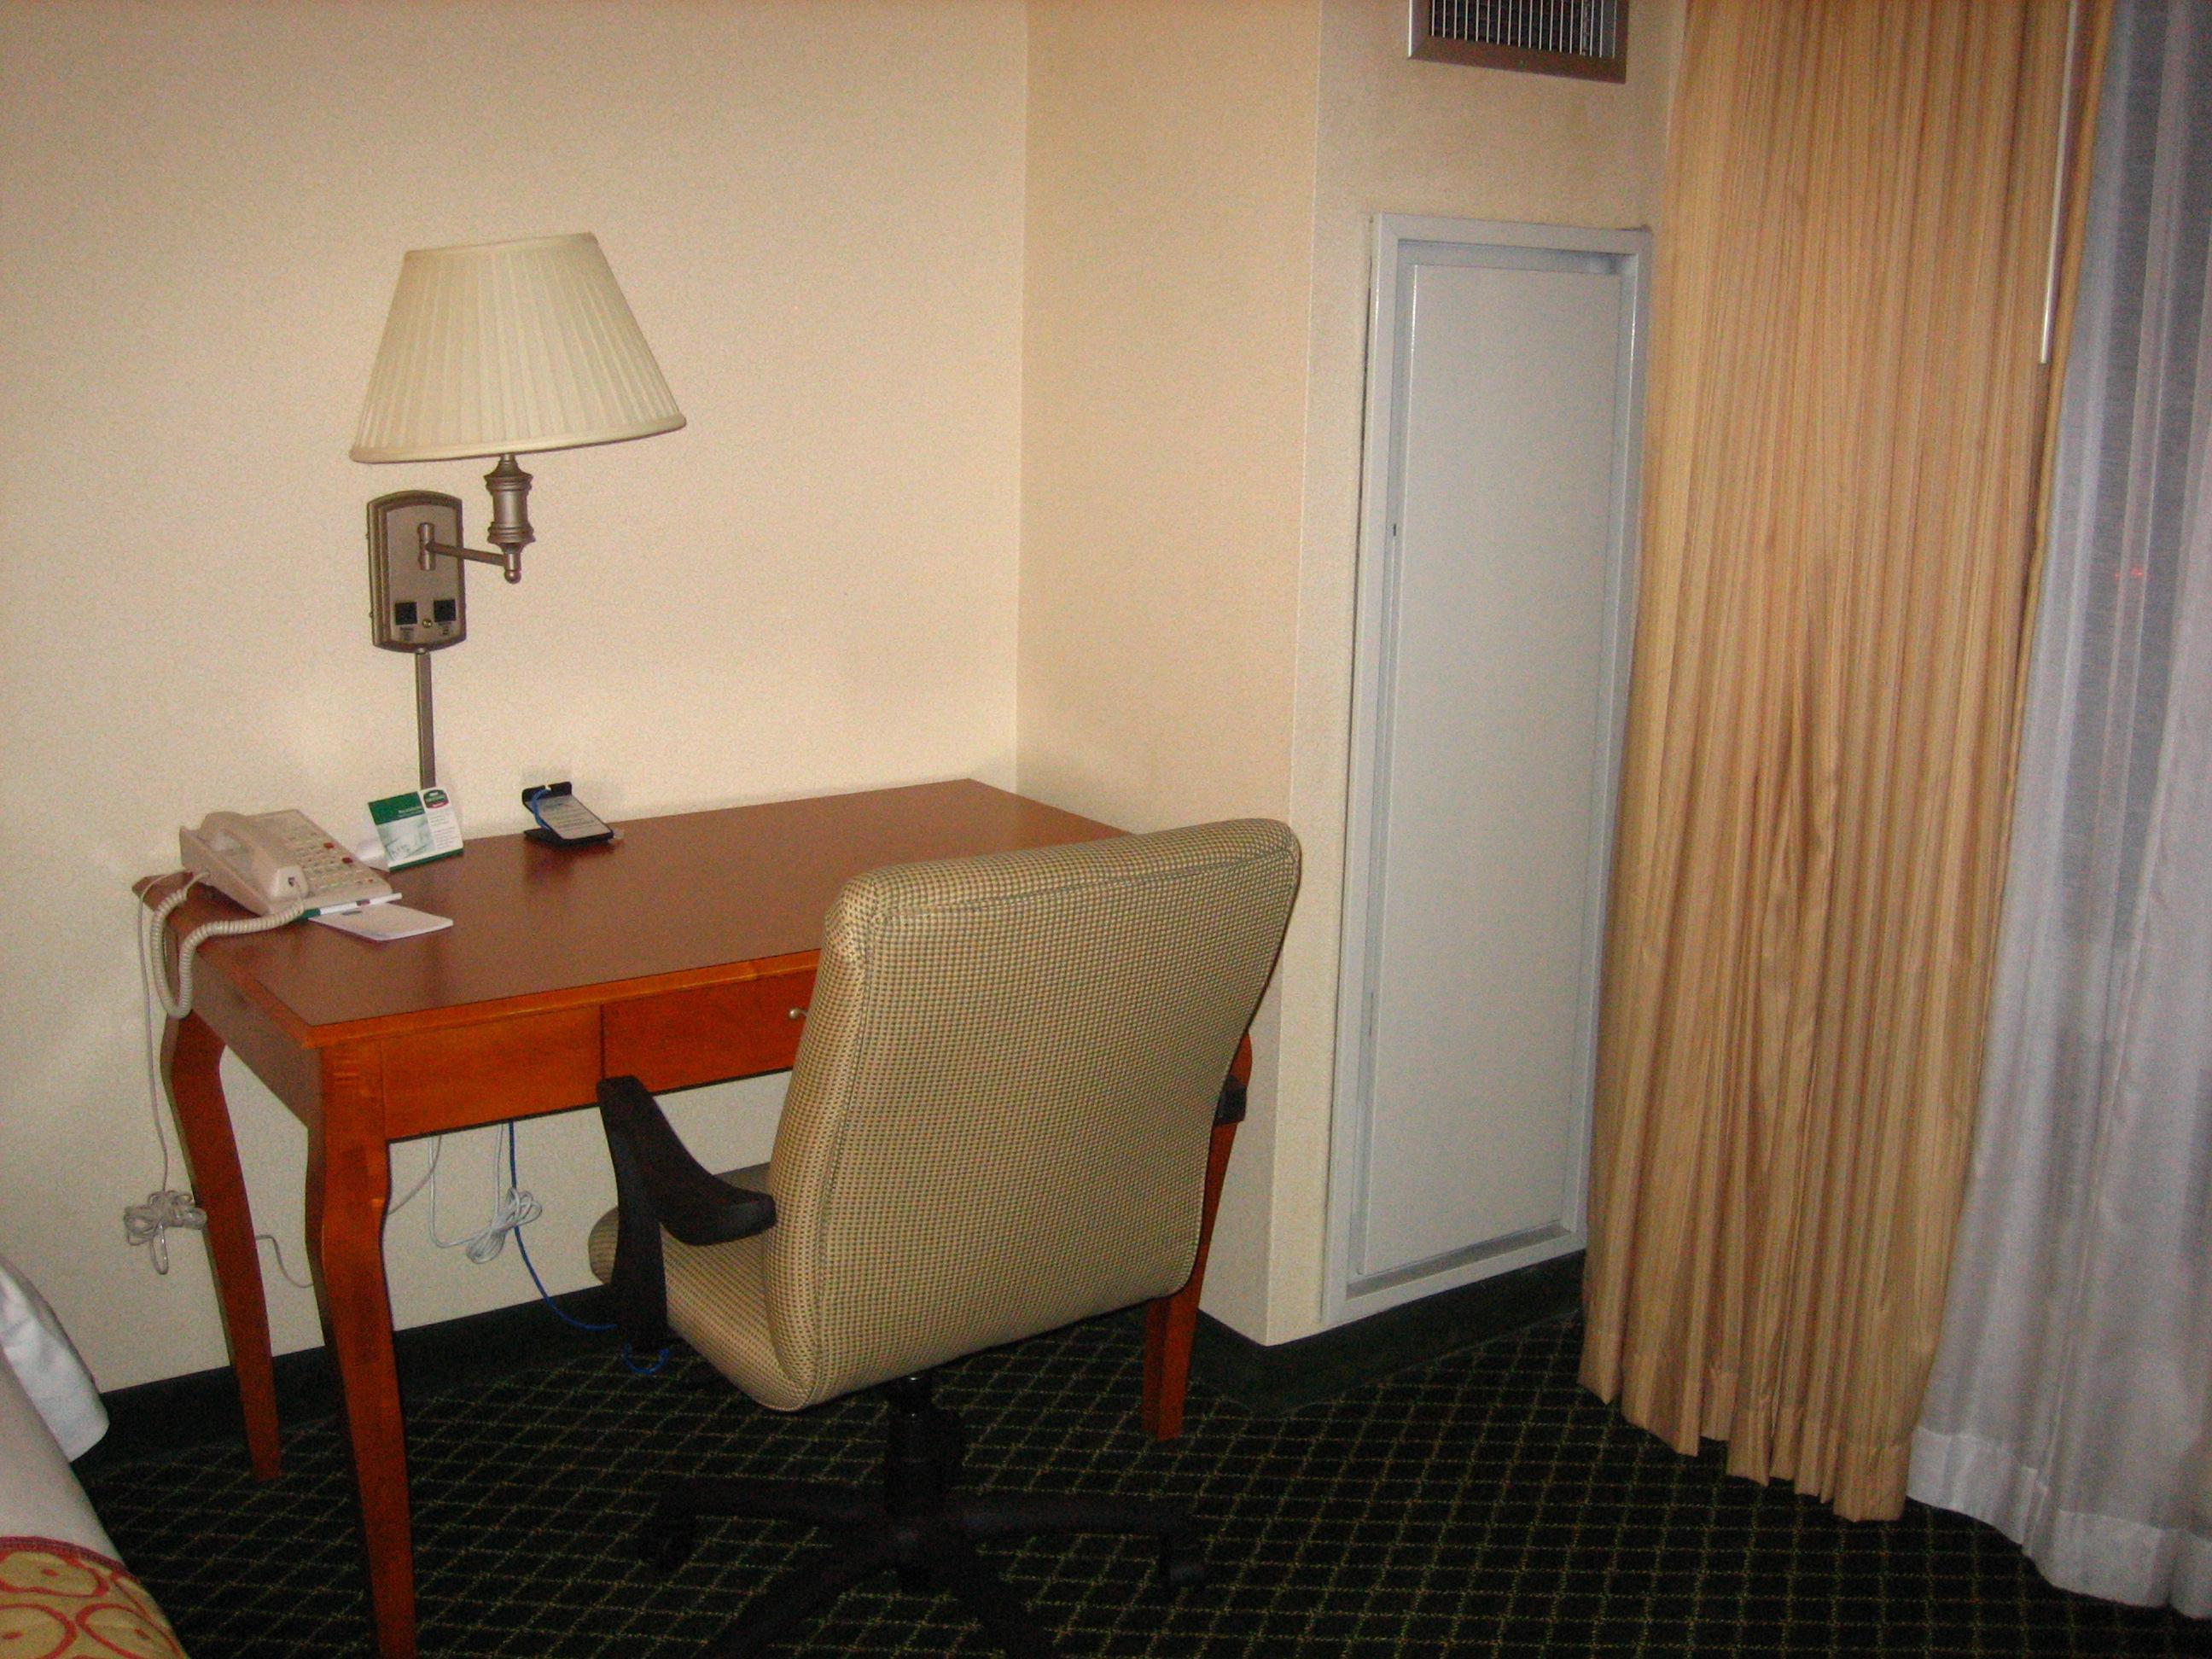Armario: (1366, 258, 1590, 1297)
Ventana: (1681, 37, 2212, 1033)
